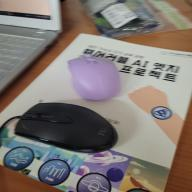mouse: (13, 97, 130, 159), (63, 48, 129, 101)
